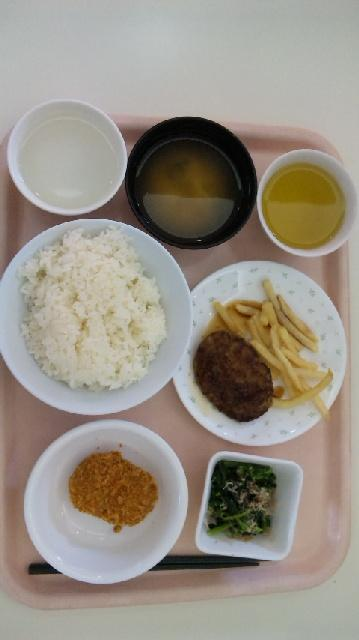plate: (173, 261, 347, 443)
rice: (21, 229, 166, 388)
